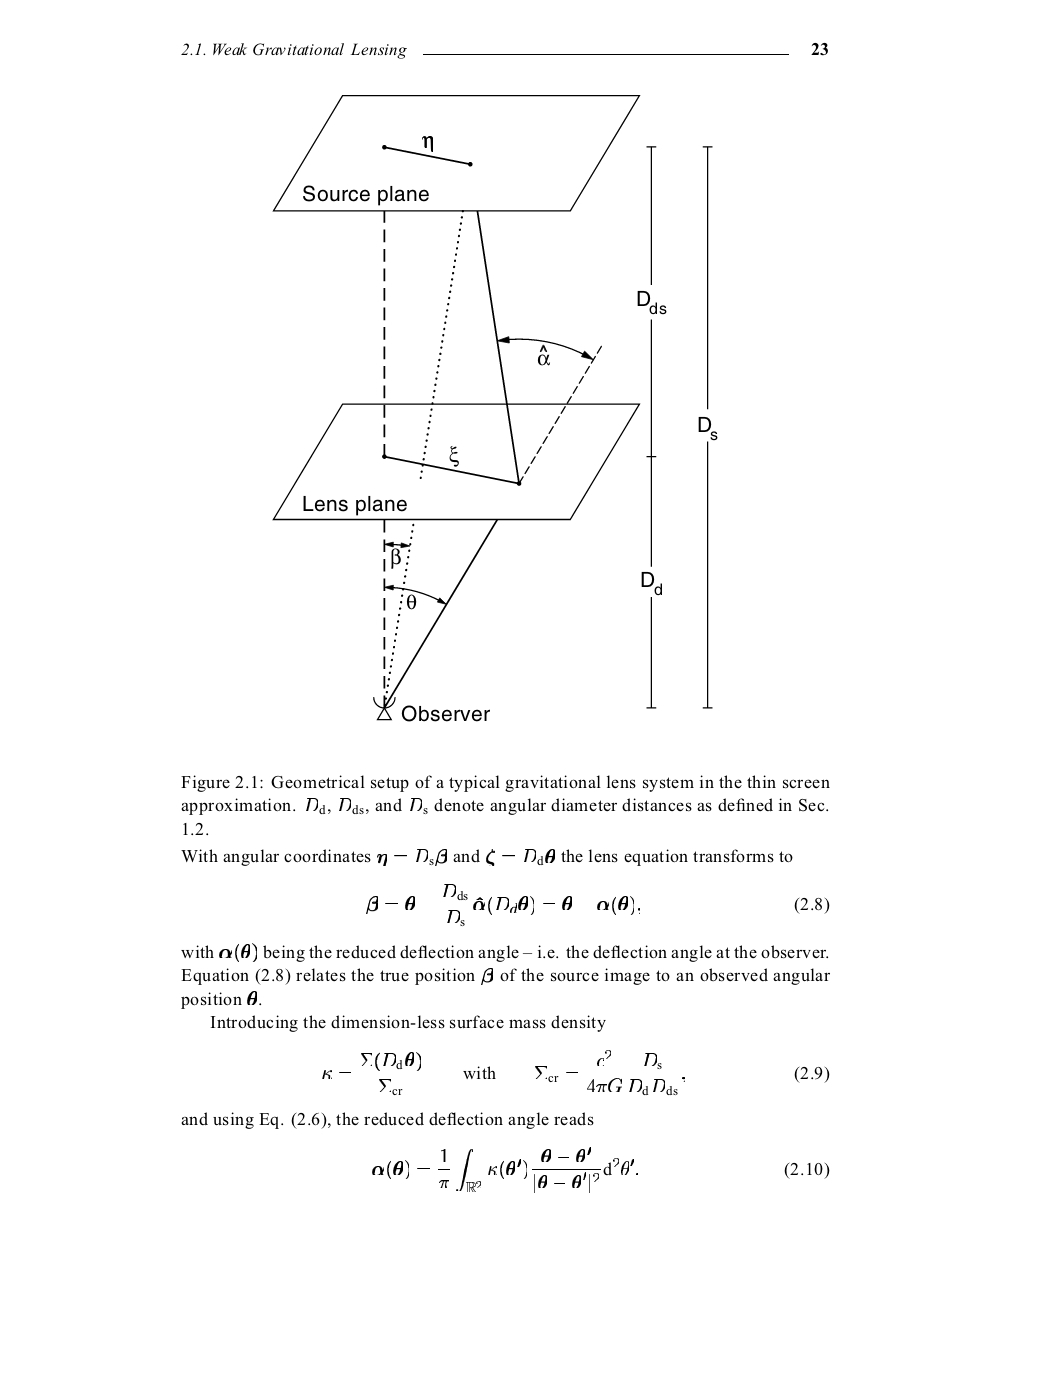figure: (272, 94, 717, 722)
formula: (322, 1049, 829, 1096), (372, 1145, 829, 1192), (366, 882, 829, 927)
